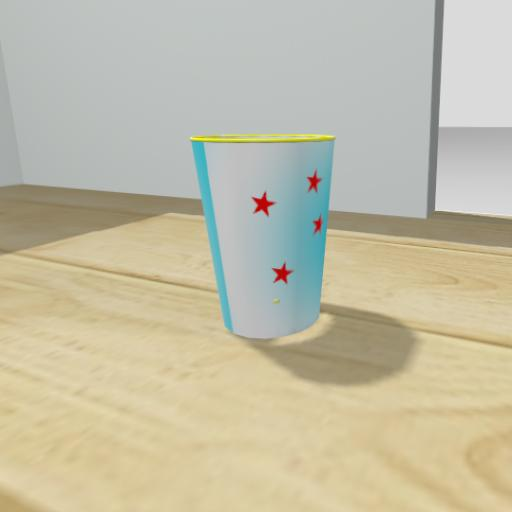Trash: (166, 118, 374, 373)
